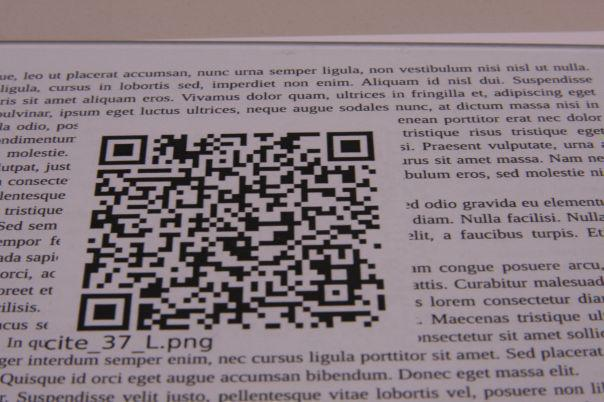Finder pattern: (73, 290, 137, 333), (321, 129, 380, 166), (96, 132, 151, 168)
